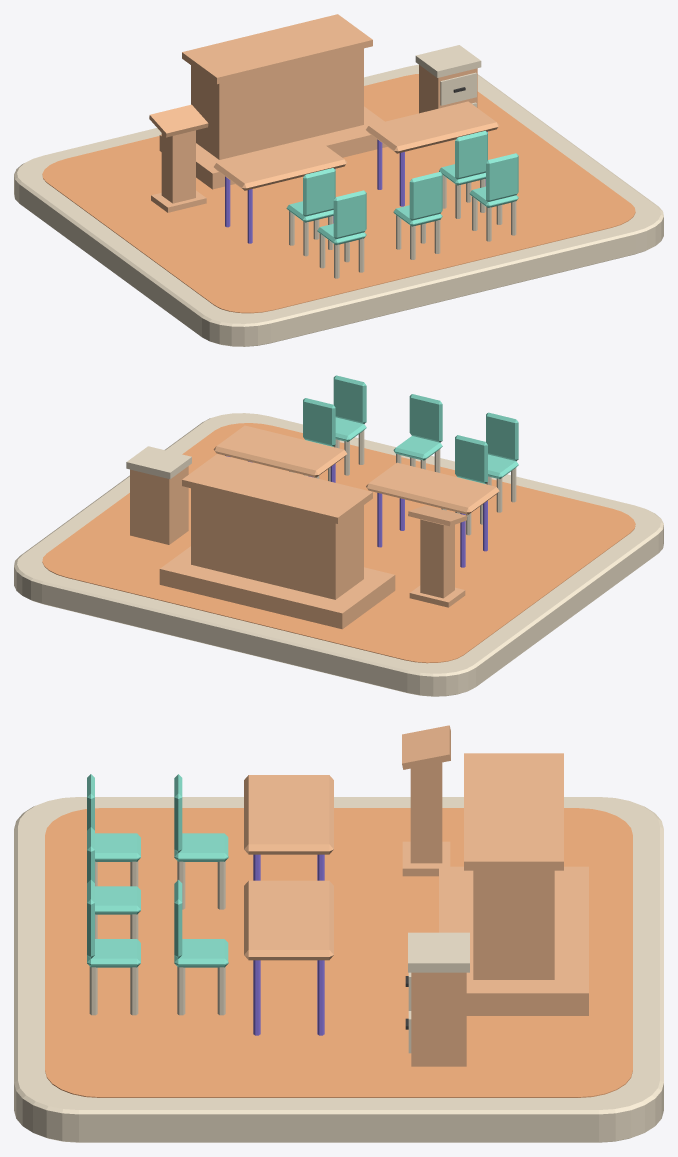
3 renders of one model, top to bottom at view 1: azimuth 30°, elevation 25°; view 2: azimuth 150°, elevation 25°; view 3: azimuth 270°, elevation 25°, orthographic. The views are drawn at different scales.
Visible parts, largest first — view 1: COM-02 Floor Surface, COM-01 Rounded Base Direct, Bench, Top, Rounded table top.001, Rounded table top, Platform, Body, Backrest.002, Backrest.003, Top.001, Backrest.004 (+6 smaller); view 2: COM-02 Floor Surface, COM-01 Rounded Base Direct, Bench, Platform, Top, Body.001, Rounded table top.001, Rounded table top, Body, Backrest.003, Backrest.004, Top.001 (+8 smaller); view 3: COM-02 Floor Surface, COM-01 Rounded Base Direct, Top, Platform, Bench, Rounded table top.001, Rounded table top, Body.001, Body, Top.001, Reading top, Seat.001 (+8 smaller).
Part boxes in pixels (x1,y1,x2,y2): COM-02 Floor Surface: (42, 74, 635, 313); COM-01 Rounded Base Direct: (14, 64, 663, 346); Bench: (191, 48, 363, 159); Top: (182, 14, 372, 84); Rounded table top.001: (366, 101, 499, 153); Rounded table top: (214, 138, 347, 190); Platform: (159, 106, 387, 189); Body: (161, 130, 195, 203); Backrest.002: (333, 190, 366, 239); Backrest.003: (409, 172, 442, 220); Top.001: (415, 45, 481, 77); Backrest.004: (486, 153, 518, 201); COM-02 Floor Surface: (42, 423, 635, 663); COM-01 Rounded Base Direct: (14, 413, 663, 696); Bench: (191, 488, 363, 599); Platform: (159, 546, 395, 629); Top: (182, 454, 372, 523); Body.001: (130, 466, 188, 544); Rounded table top.001: (213, 425, 346, 477); Rounded table top: (366, 462, 499, 514); Body: (420, 519, 454, 598); Backrest.003: (409, 394, 442, 442); Backrest.004: (333, 375, 366, 423); Top.001: (126, 446, 191, 479); COM-02 Floor Surface: (45, 808, 632, 1097); COM-01 Rounded Base Direct: (14, 797, 663, 1142); Top: (464, 753, 563, 870); Platform: (439, 866, 588, 1015); Bench: (473, 870, 554, 979); Rounded table top.001: (244, 880, 333, 960); Rounded table top: (244, 775, 333, 854); Body.001: (411, 972, 466, 1066); Body: (410, 762, 442, 863); Top.001: (408, 932, 469, 972); Reading top: (402, 725, 450, 769); Seat.001: (174, 939, 228, 967).
Bounding box in the file's own units: 6 × 1.58 × 5.2.
1 material, 1 textured.
